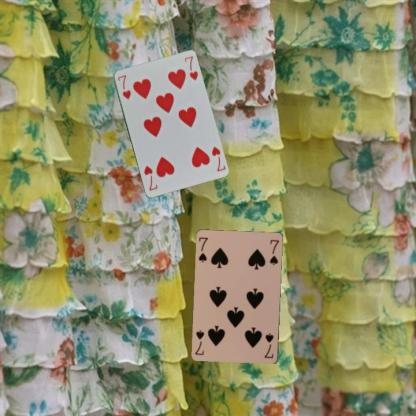7h: (208, 143, 226, 173), (115, 72, 132, 101)
7s: (196, 234, 209, 264), (262, 330, 274, 360)
